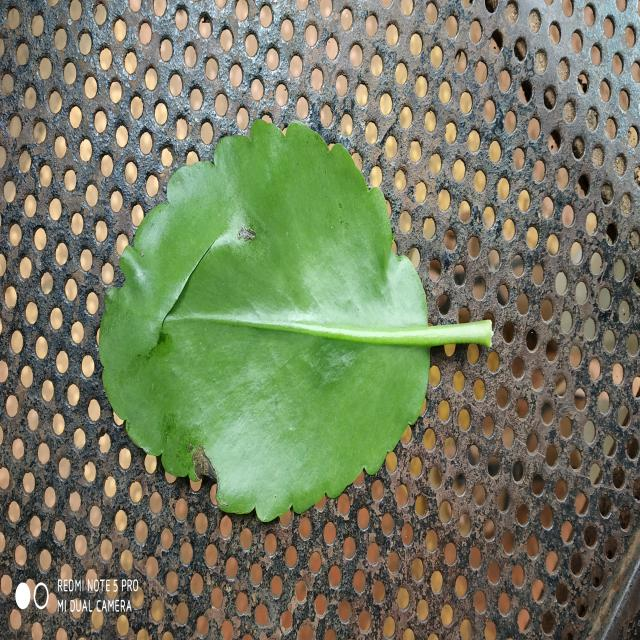spinach: (100, 122, 434, 522)
